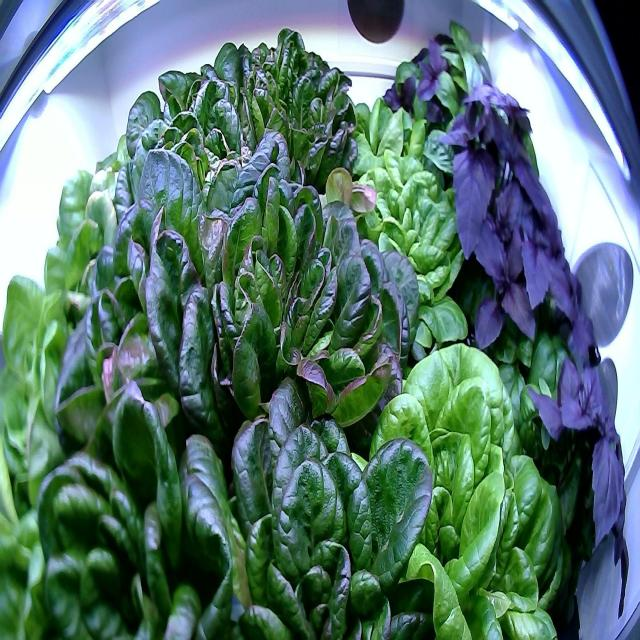Ready: (181, 340, 439, 640), (336, 325, 575, 639), (202, 123, 426, 446), (44, 138, 230, 490), (22, 371, 248, 640), (0, 272, 104, 636), (223, 15, 370, 235), (111, 50, 245, 255), (353, 148, 482, 353), (31, 153, 142, 316), (334, 87, 438, 189)
